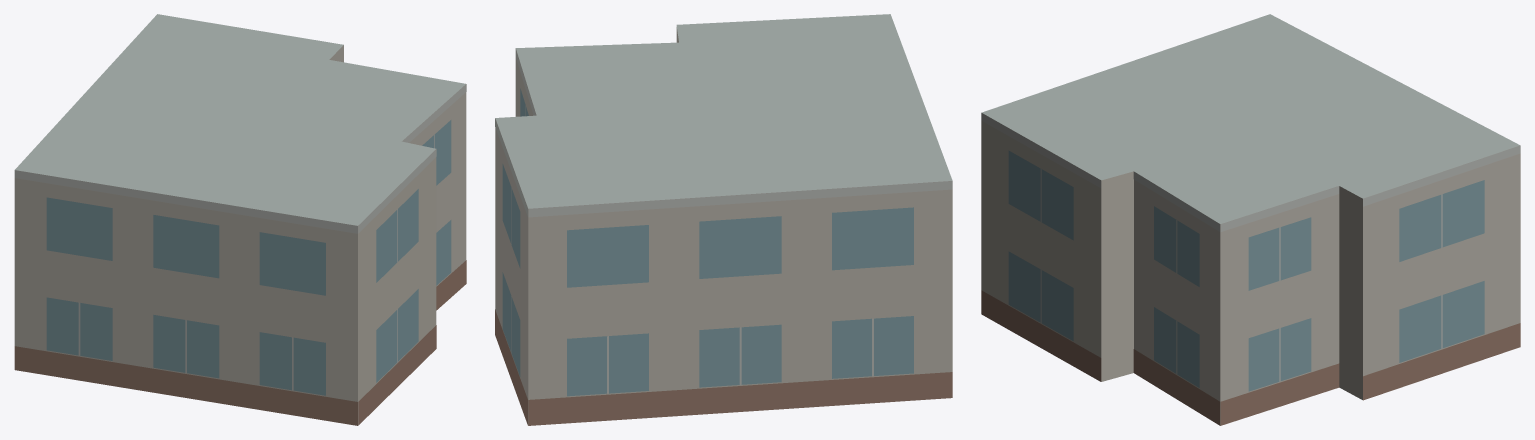
Rendered from survey-upis-32940394.glb.
3 views of the same model, side by side, from view 1: azimuth 30°, elevation 25°; view 2: azimuth 150°, elevation 25°; view 3: azimuth 270°, elevation 25° (orthographic). The views are drawn at different scales.
Parts seen in each view (by area): view 1: survey-upis-32940394.tmp; view 2: survey-upis-32940394.tmp; view 3: survey-upis-32940394.tmp.
Boxes of the visible parts, x1=… form: survey-upis-32940394.tmp: x1=14, y1=14, x2=466, y2=425; survey-upis-32940394.tmp: x1=495, y1=14, x2=952, y2=425; survey-upis-32940394.tmp: x1=981, y1=14, x2=1520, y2=425.
Size of the model in its own units: 13.64 by 6.1 by 14.79.
